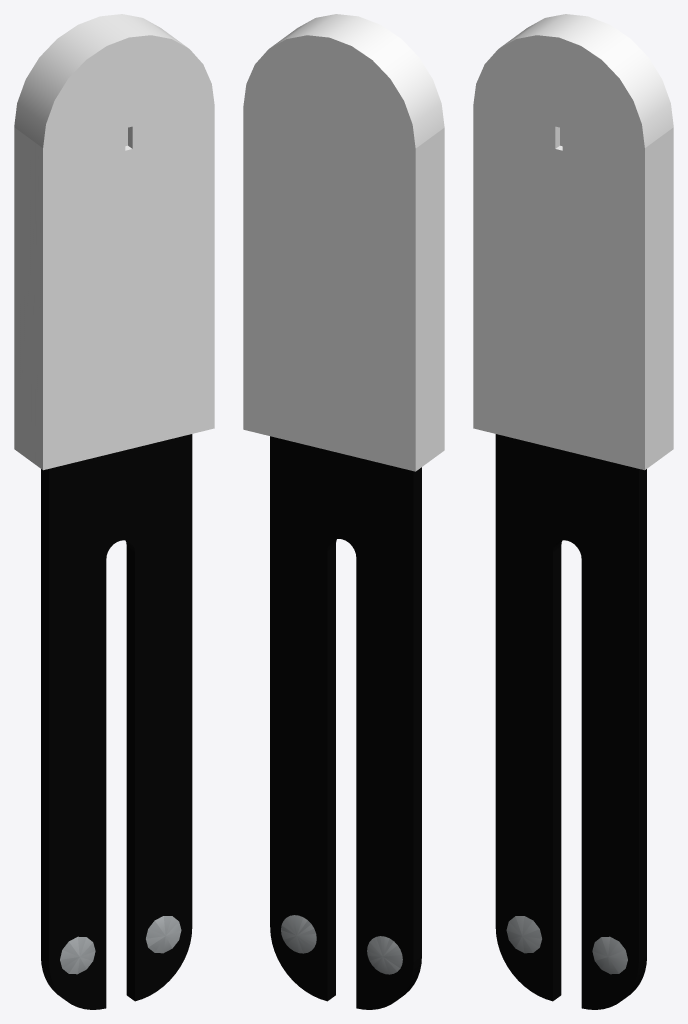
File: miflora.glb
3 views of the same model, side by side, from view 1: azimuth 30°, elevation 25°; view 2: azimuth 150°, elevation 25°; view 3: azimuth 330°, elevation 25° (orthographic).
Parts seen in each view (by area): view 1: SketchUp.001, SketchUp, SketchUp.003, SketchUp.002; view 2: SketchUp.001, SketchUp, SketchUp.005, SketchUp.004; view 3: SketchUp.001, SketchUp, SketchUp.002, SketchUp.003.
Boxes of the visible parts, box(x1,y1,x2,y2) form: SketchUp.001: box(14, 14, 214, 470); SketchUp: box(41, 434, 192, 1009); SketchUp.003: box(146, 916, 181, 953); SketchUp.002: box(60, 936, 95, 974); SketchUp.001: box(243, 14, 444, 471); SketchUp: box(270, 436, 421, 1009); SketchUp.005: box(281, 915, 316, 953); SketchUp.004: box(367, 936, 402, 974); SketchUp.001: box(473, 14, 673, 470); SketchUp: box(495, 434, 646, 1009); SketchUp.002: box(506, 916, 541, 953); SketchUp.003: box(592, 936, 627, 974).
Size of the model in its own units: 0.024 by 0.13 by 0.007.
Materials: 3 (1 with a texture image).
